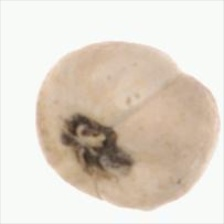L4: (35, 40, 220, 210)
